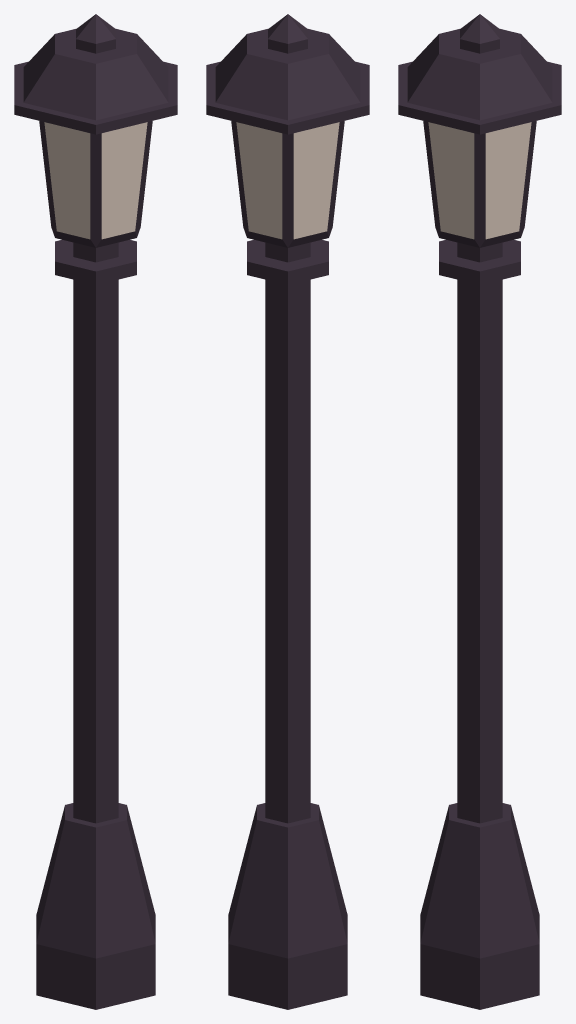
Rendered from streetLightA.FBX.
3 renders of one model, left to right at view 1: azimuth 30°, elevation 25°; view 2: azimuth 150°, elevation 25°; view 3: azimuth 270°, elevation 25°, orthographic.
Visible parts, largest first — view 1: streetLightA; view 2: streetLightA; view 3: streetLightA.
Boxes of the visible parts, x1,y1,x2,y2 form: streetLightA: (14,14,177,1009); streetLightA: (206,14,369,1009); streetLightA: (398,14,561,1009).
Bounding box in the file's own units: 1.68 × 9.5 × 1.46.
